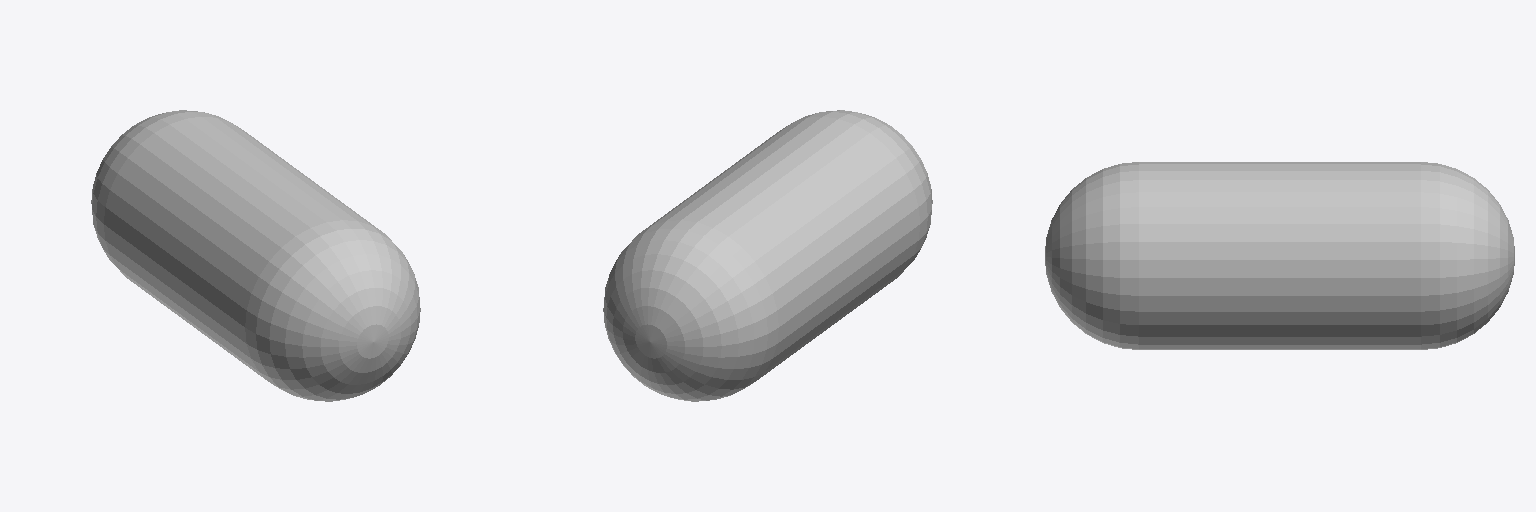
File: Greenate Arm.obj
The picture shows the model from 3 angles: view 1: azimuth 30°, elevation 25°; view 2: azimuth 150°, elevation 25°; view 3: azimuth 270°, elevation 25°; orthographic projection.
Parts seen in each view (by area): view 1: Greenate_Character; view 2: Greenate_Character; view 3: Greenate_Character.
Part boxes in pixels (x1,y1,x2,y2): Greenate_Character: (91,110,420,401); Greenate_Character: (603,110,932,401); Greenate_Character: (1045,162,1514,349).
Bounding box in the file's own units: 0.5 × 0.5 × 1.25.